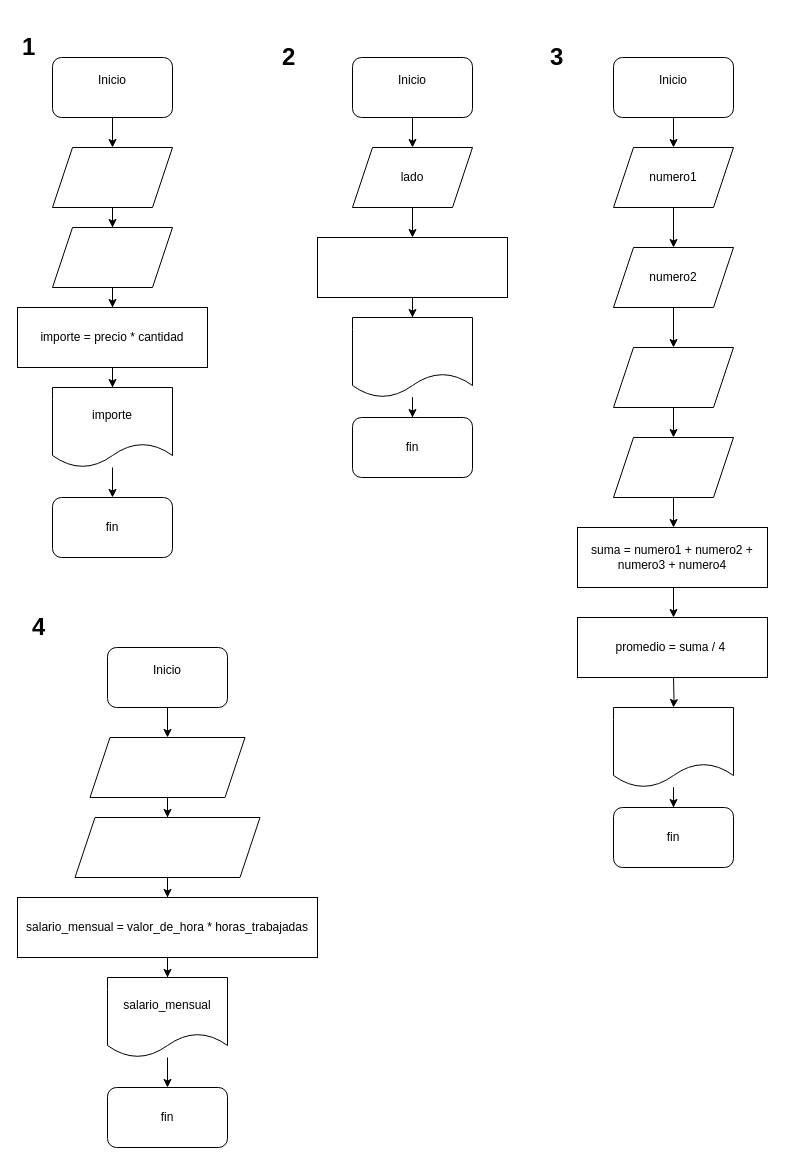
The diagram is 785 pixels wide and 1165 high, and some of its shapes have lost their labels. Here are the shapes that lost their labels. From the top down, the centre of each, then its label:
pixel 112 177: precio
pixel 112 257: cantidad
pixel 412 267: perimetro = lado * 4
pixel 412 357: perimetro
pixel 673 377: numero3
pixel 673 467: numero4
pixel 167 767: horas_trabajadas
pixel 673 747: promedio
pixel 167 847: valor_de_hora
